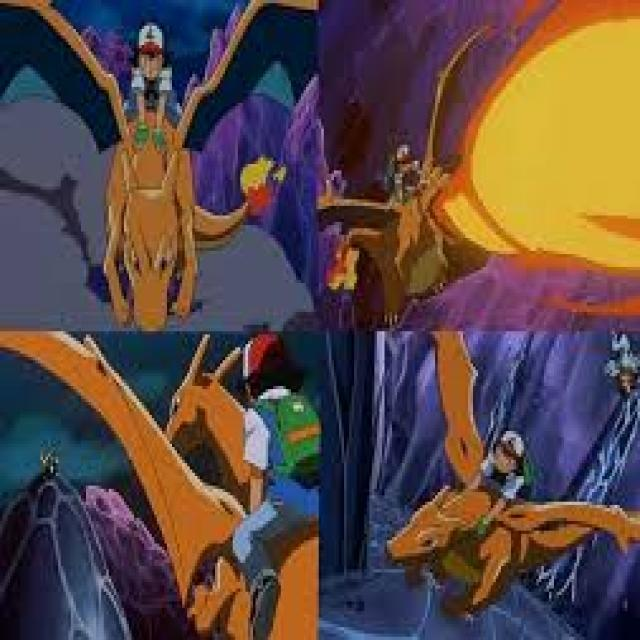Charizard: (117, 354, 285, 640), (67, 62, 230, 322), (393, 420, 565, 618), (352, 133, 466, 315)
